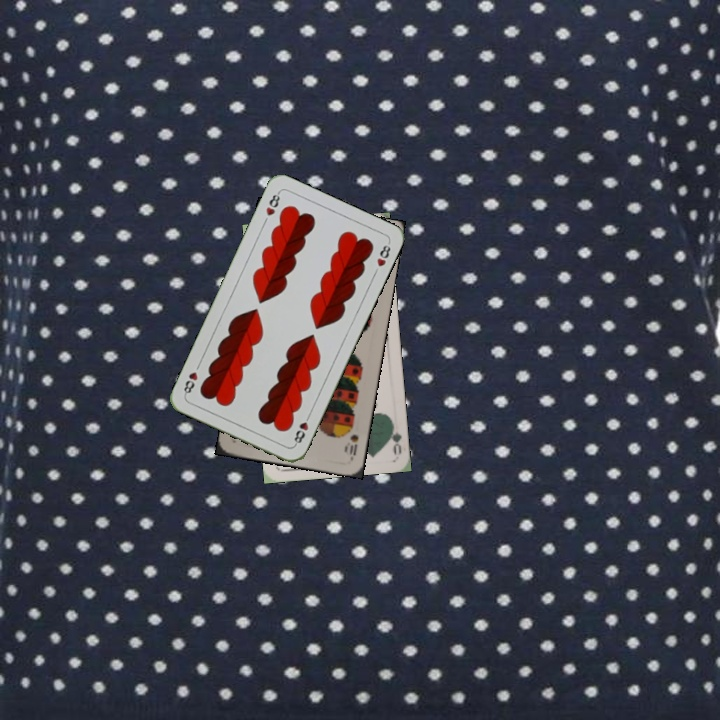GO: (385, 416, 404, 456)
H8: (290, 410, 313, 448), (262, 188, 283, 218)
S10: (342, 430, 361, 460)
